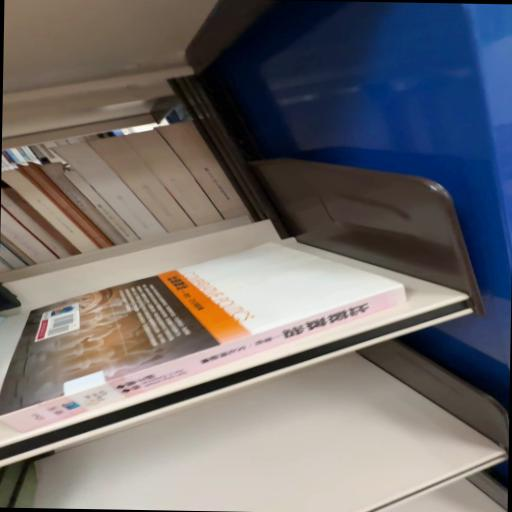flat: (0, 243, 406, 432)
